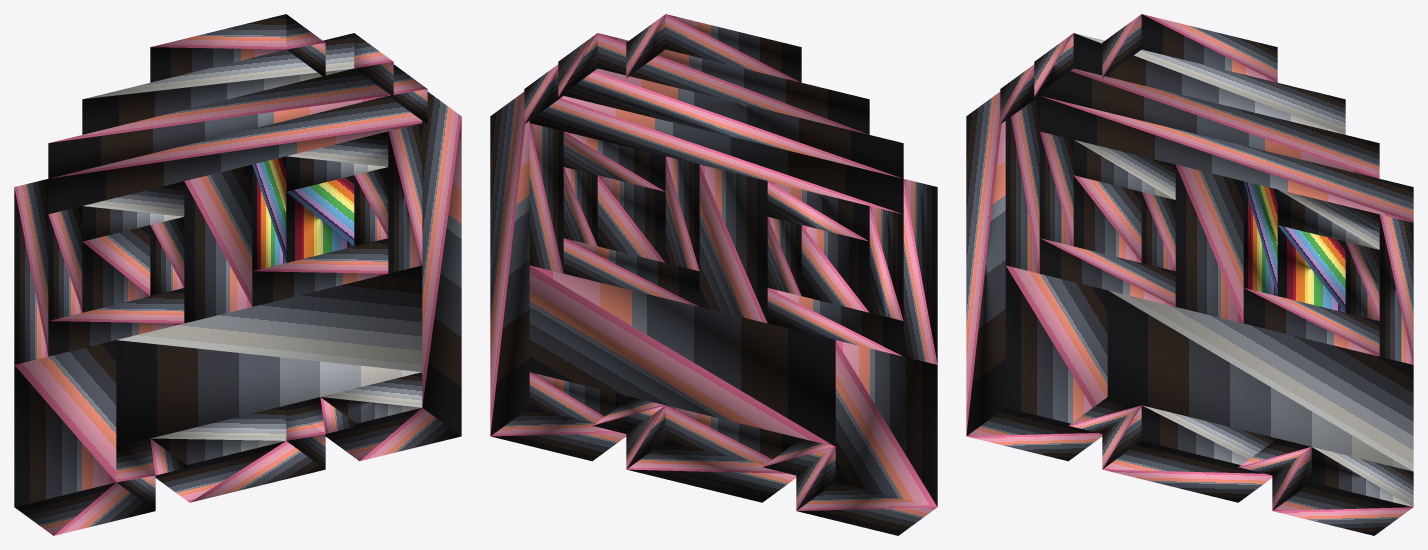
Rendered from ghost.glb.
3 renders of one model, left to right at view 1: azimuth 30°, elevation 25°; view 2: azimuth 150°, elevation 25°; view 3: azimuth 330°, elevation 25°, orthographic.
Visible parts, largest first — view 1: ghost; view 2: ghost; view 3: ghost.
Boxes of the visible parts, left/top/right/bottom form: ghost: left=14, top=14, right=461, bottom=535; ghost: left=490, top=14, right=937, bottom=535; ghost: left=966, top=14, right=1413, bottom=535.
Size of the model in its own units: 0.95 by 0.95 by 0.1584.
1 material, 1 textured.
